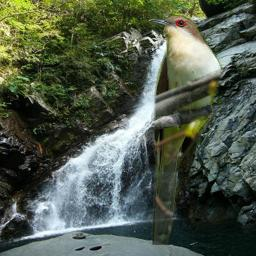Cuckoo: (146, 14, 224, 245)
